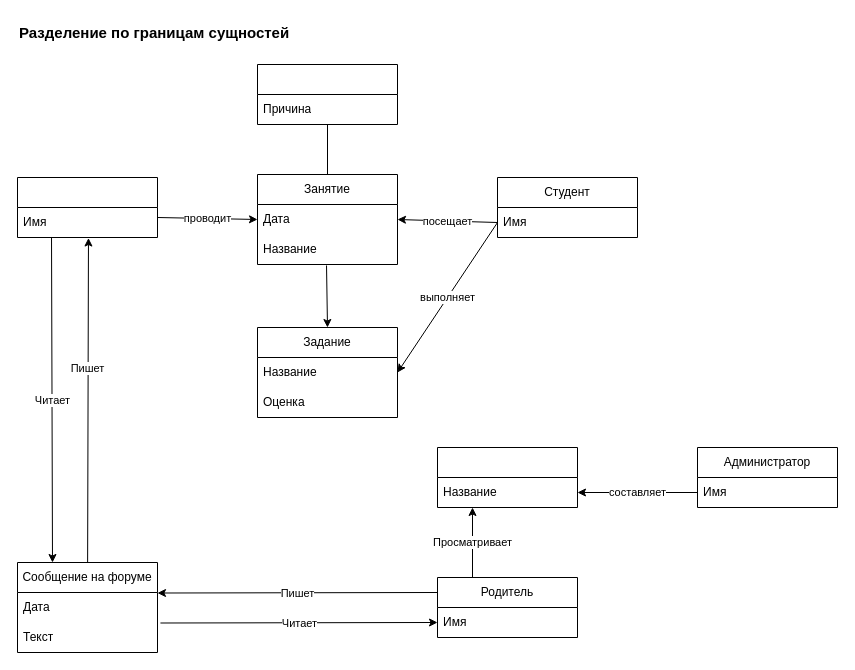
The diagram is 855 pixels wide and 670 high, and some of its shapes have lost their labels. Each missing label, with the box of its shape:
Отсутствие: (256, 64, 398, 124)
Отчет: (436, 446, 578, 508)
Преподаватель: (16, 176, 158, 238)
